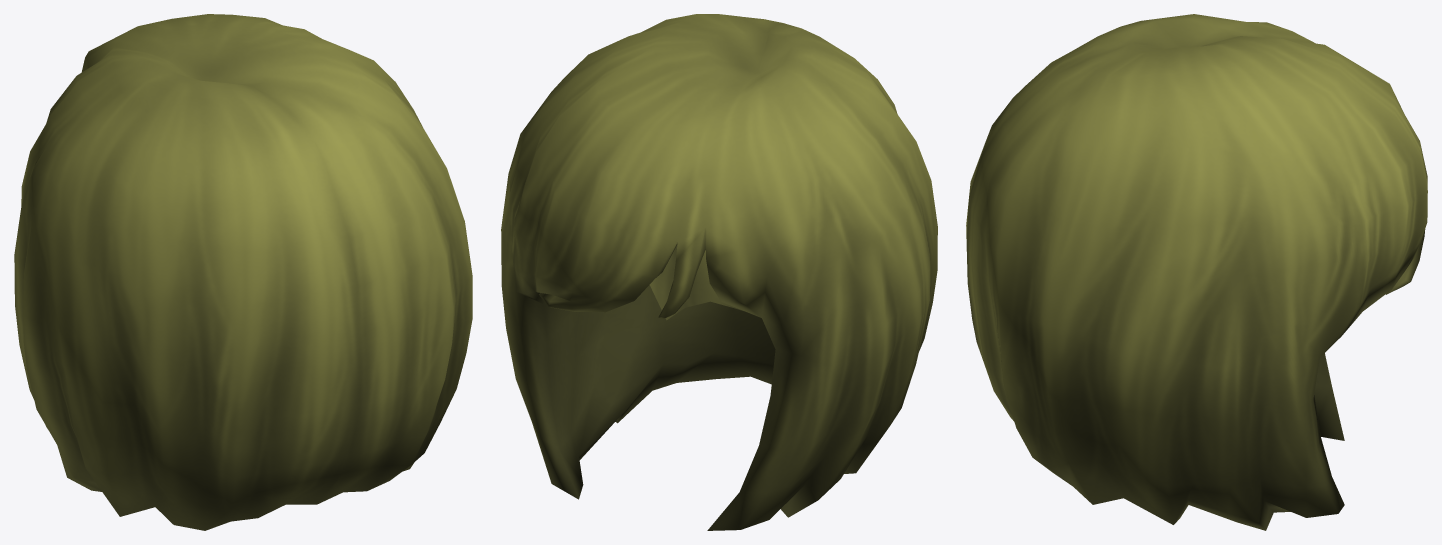
The model's file is Hair_Female_004_textured_yellow.glb.
The picture shows the model from 3 angles, left to right: view 1: azimuth 30°, elevation 25°; view 2: azimuth 150°, elevation 25°; view 3: azimuth 270°, elevation 25°; orthographic projection. The views are drawn at different scales.
Visible parts, largest first — view 1: Hair_Female_004; view 2: Hair_Female_004; view 3: Hair_Female_004.
Boxes of the visible parts, x1=… form: Hair_Female_004: x1=14, y1=14, x2=472, y2=530; Hair_Female_004: x1=501, y1=14, x2=937, y2=530; Hair_Female_004: x1=966, y1=14, x2=1427, y2=530.
Size of the model in its own units: 0.214 by 0.2309 by 0.223.
1 material, 1 textured.
